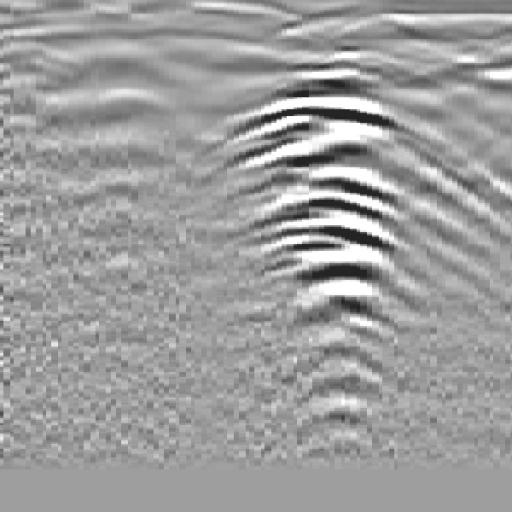metalic: (210, 69, 447, 345)
